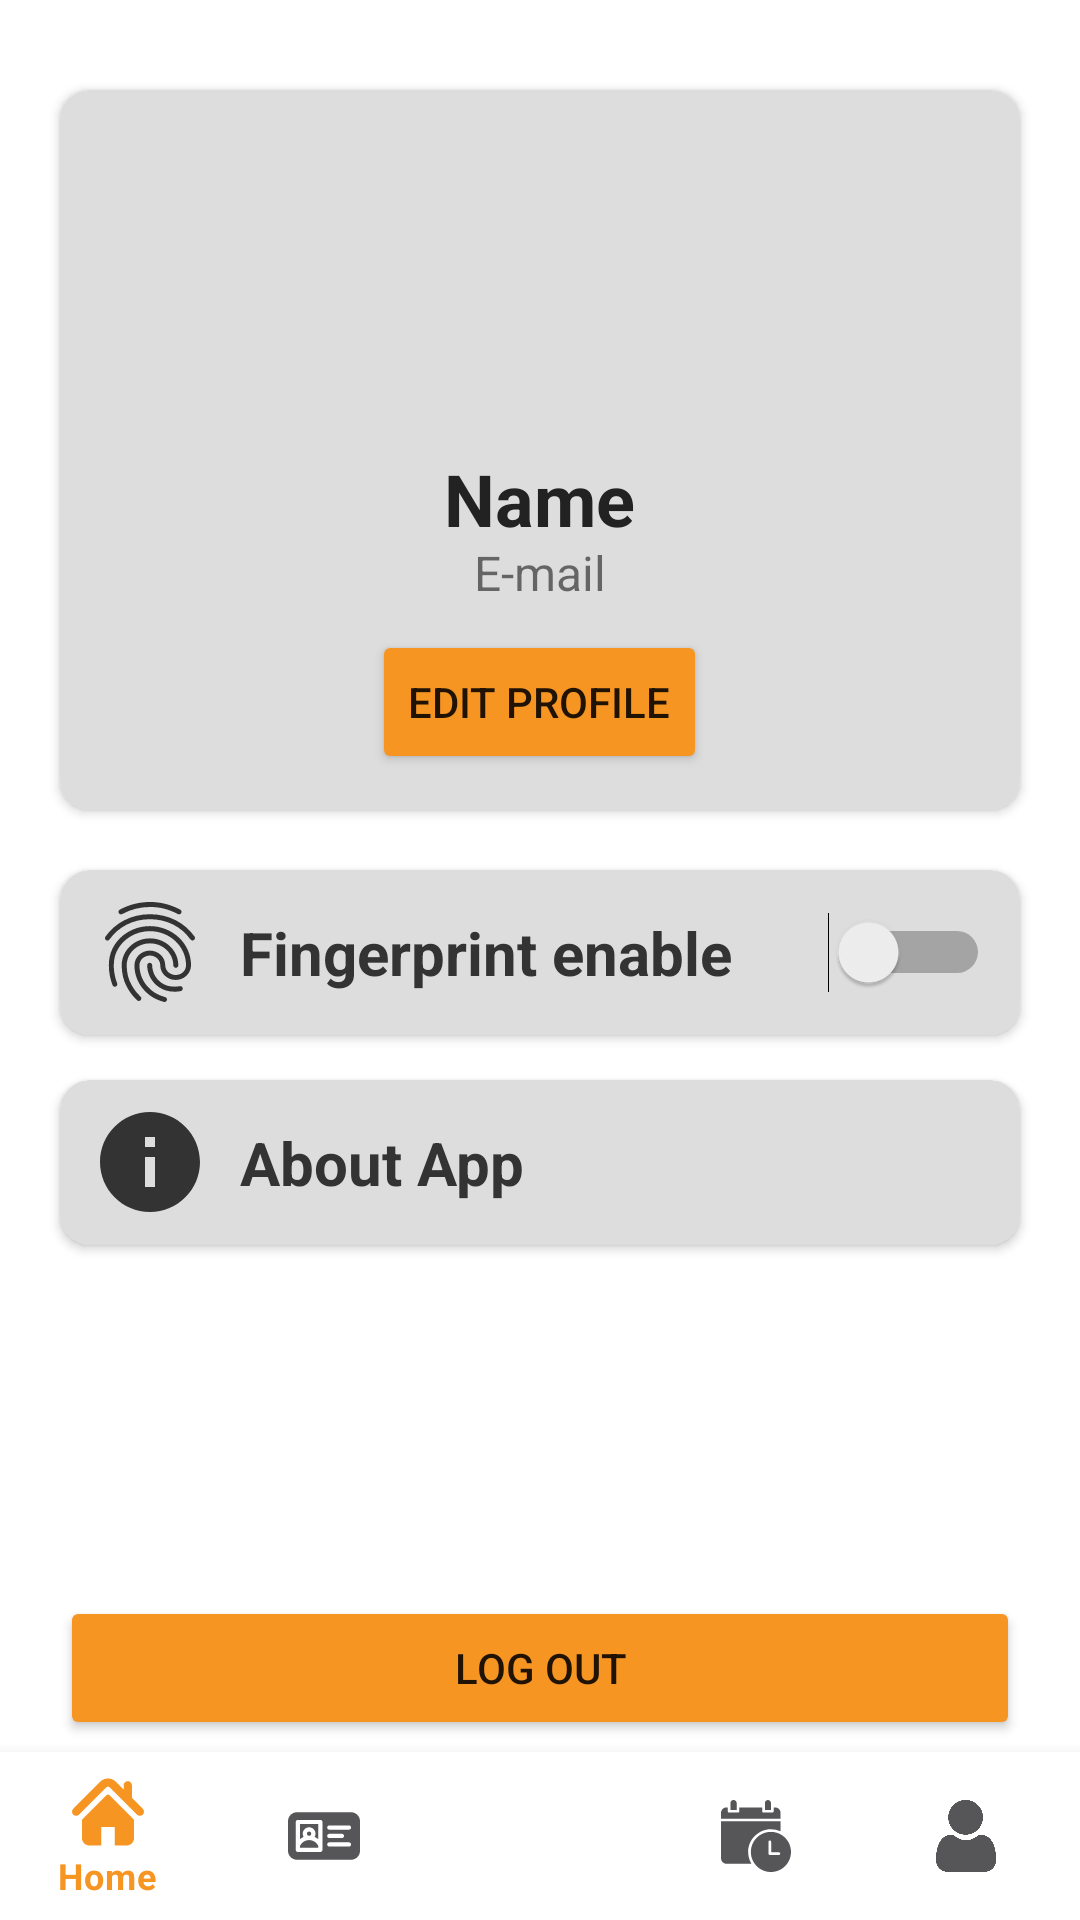

Icon bounding boxes for this 1080*1920 phone screenshot, format (x1, y1, x2, y2):
info: (100, 1112, 200, 1212)
